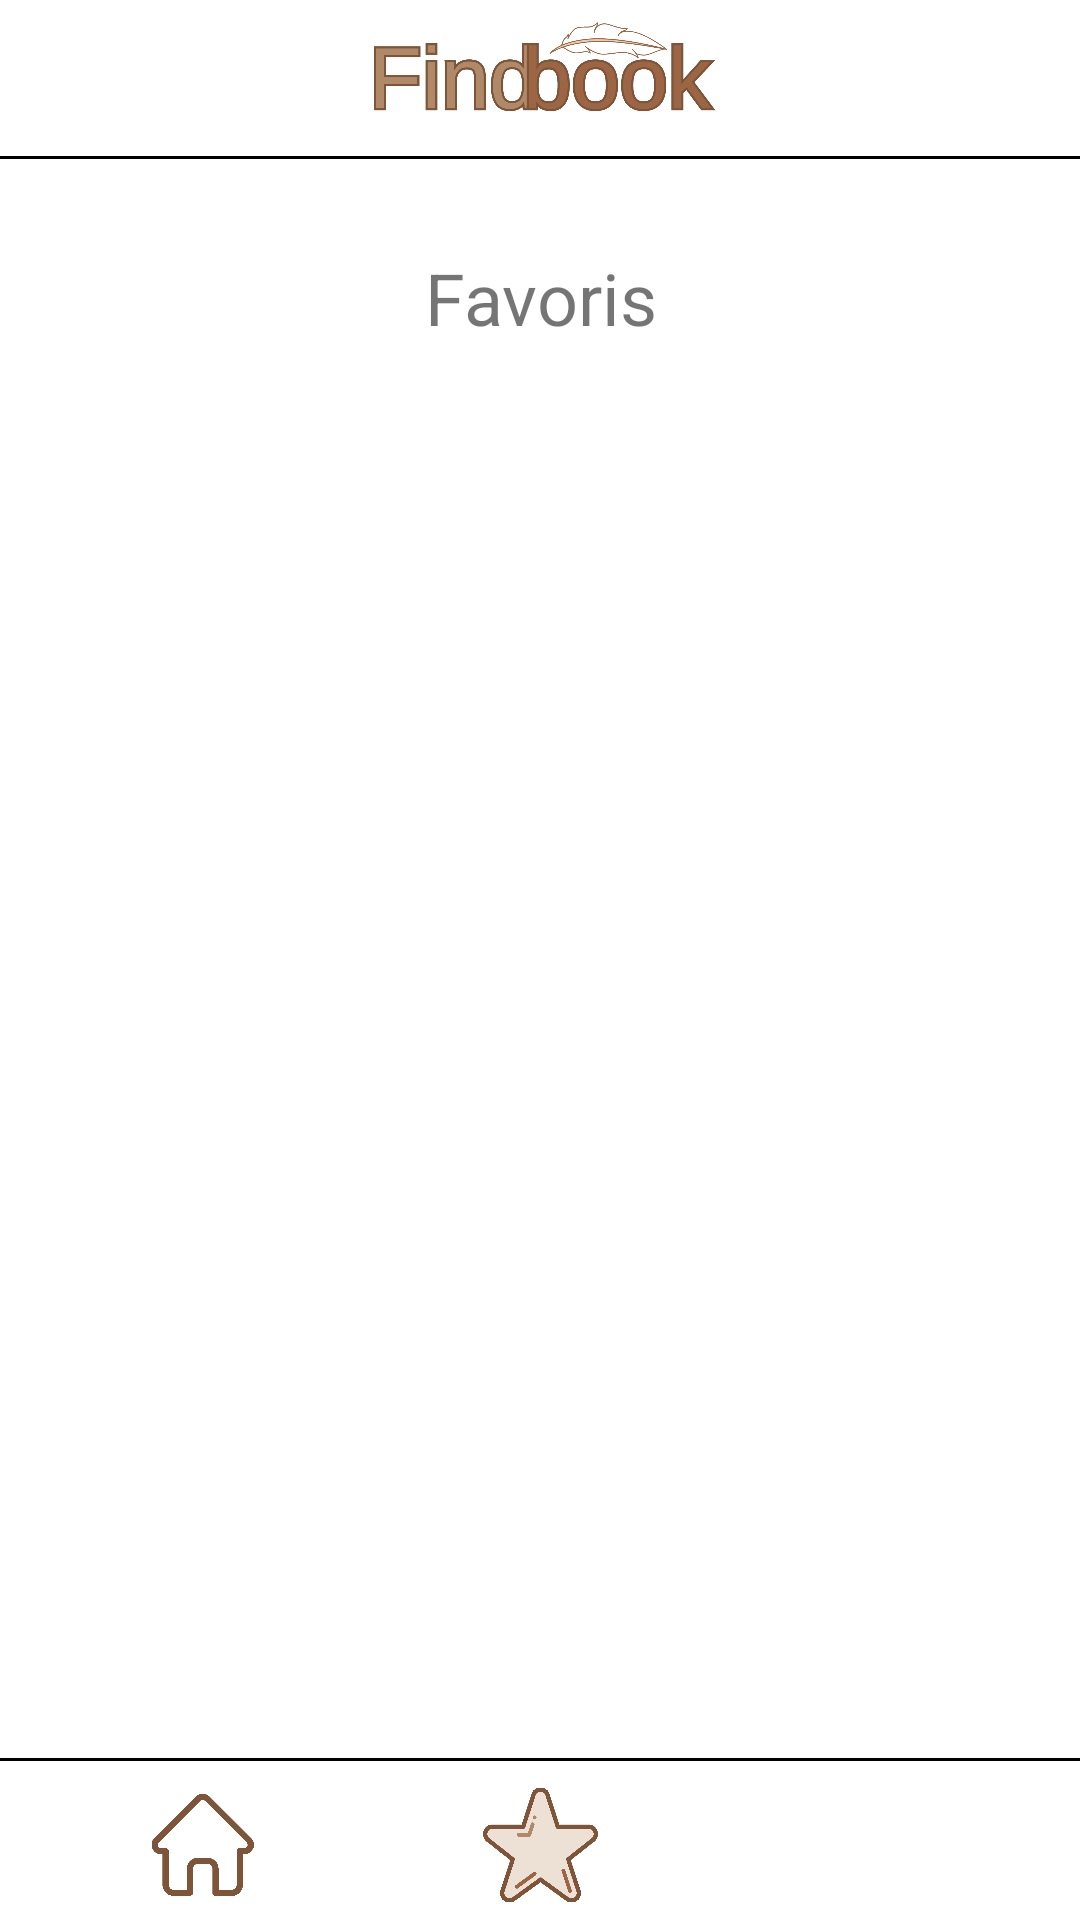

Icons on this 1080*1920 Android screen, each with its box as (x1, y1, x2, y2):
favoris: (483, 1788, 598, 1902)
home: (152, 1794, 254, 1896)
